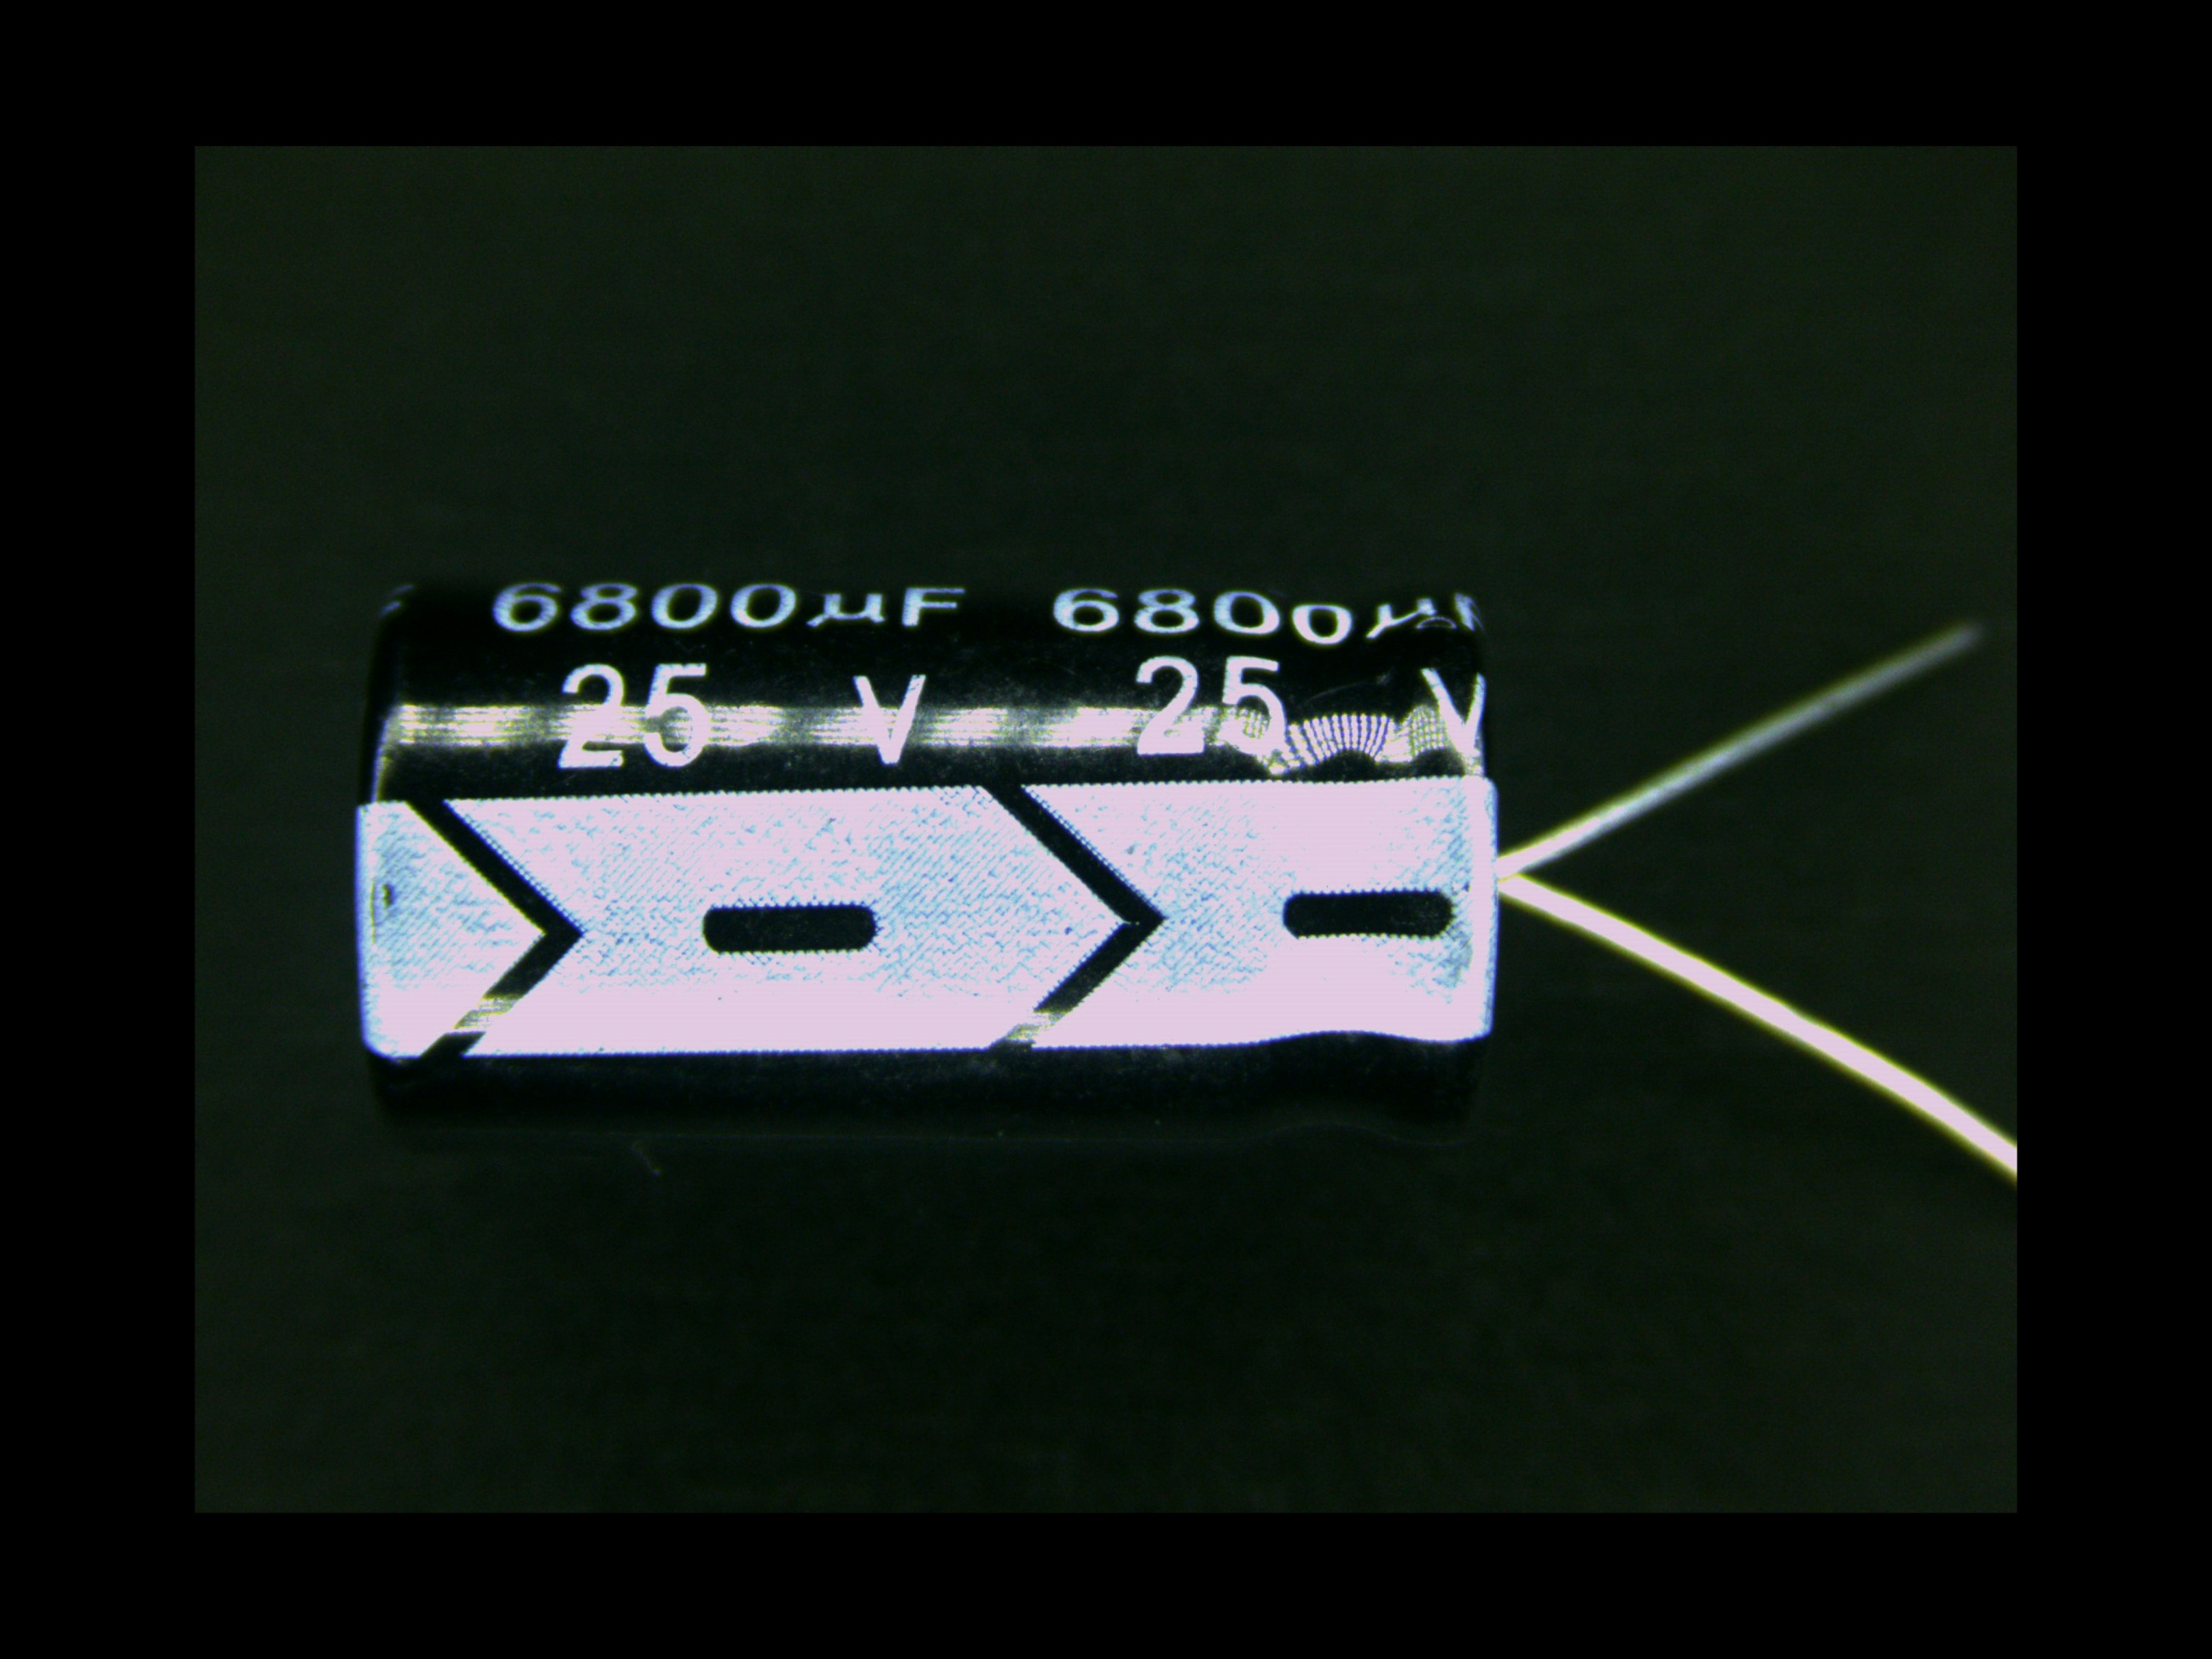c3: (345, 563, 1763, 1166)
